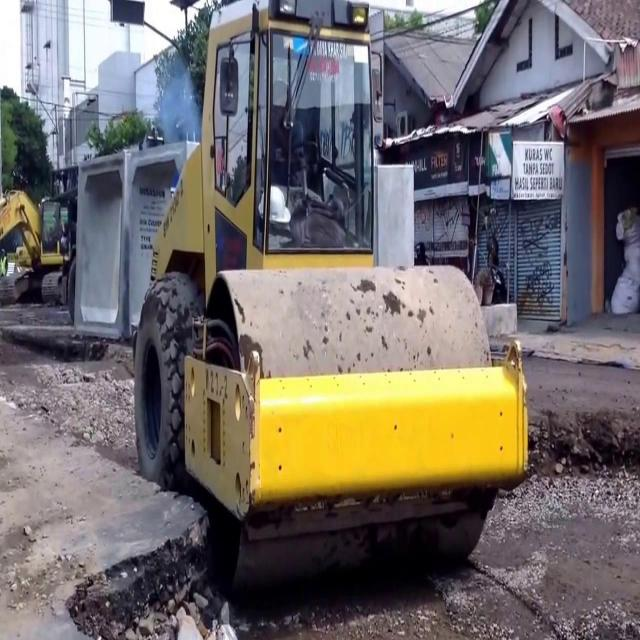Excavator: (0, 184, 70, 302)
Roller: (137, 6, 529, 574)
